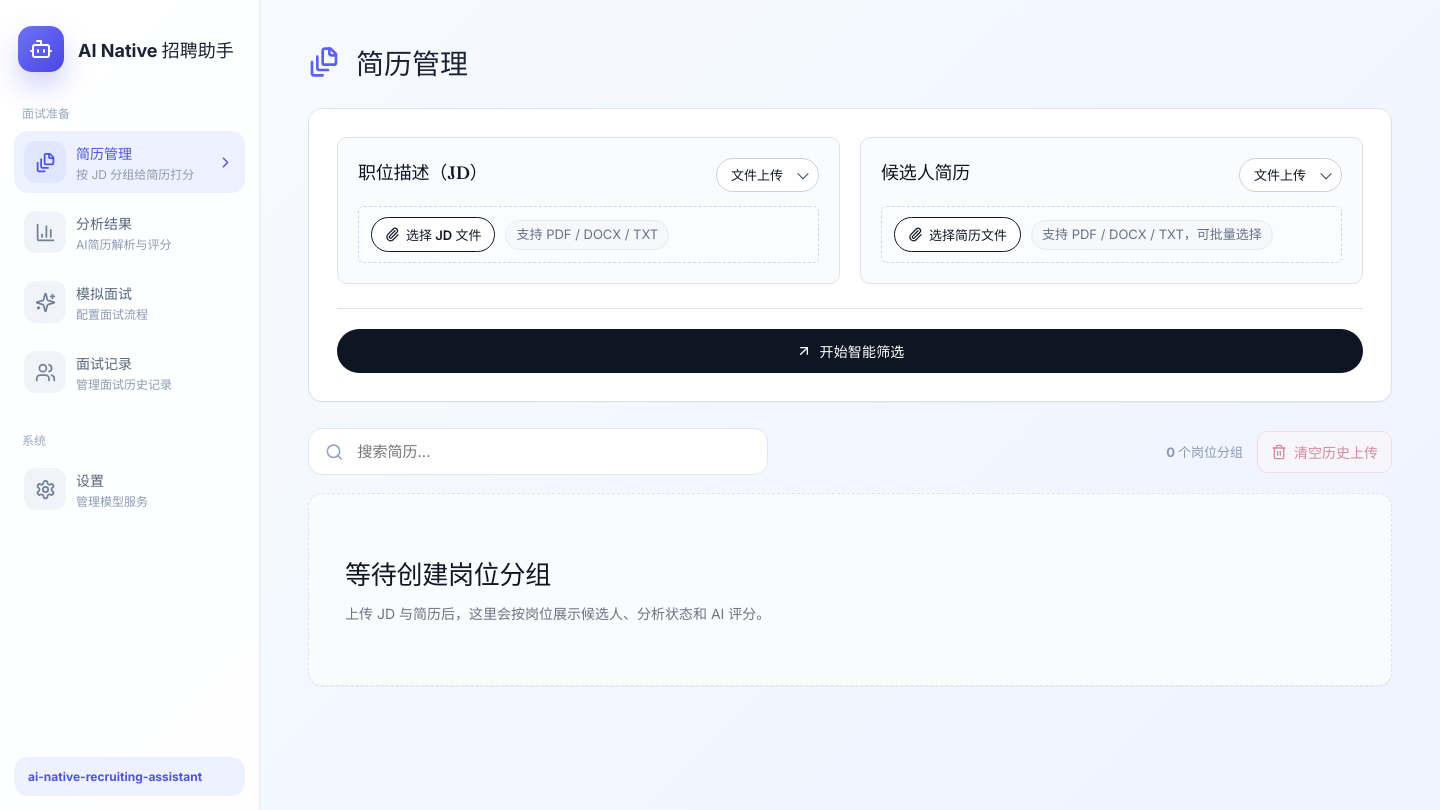
Test case: App › shows API errors in the workspace
Select "文本输入" in the dropdown labelled "职位描述（JD）" at (768, 175), box [716,158,819,192]
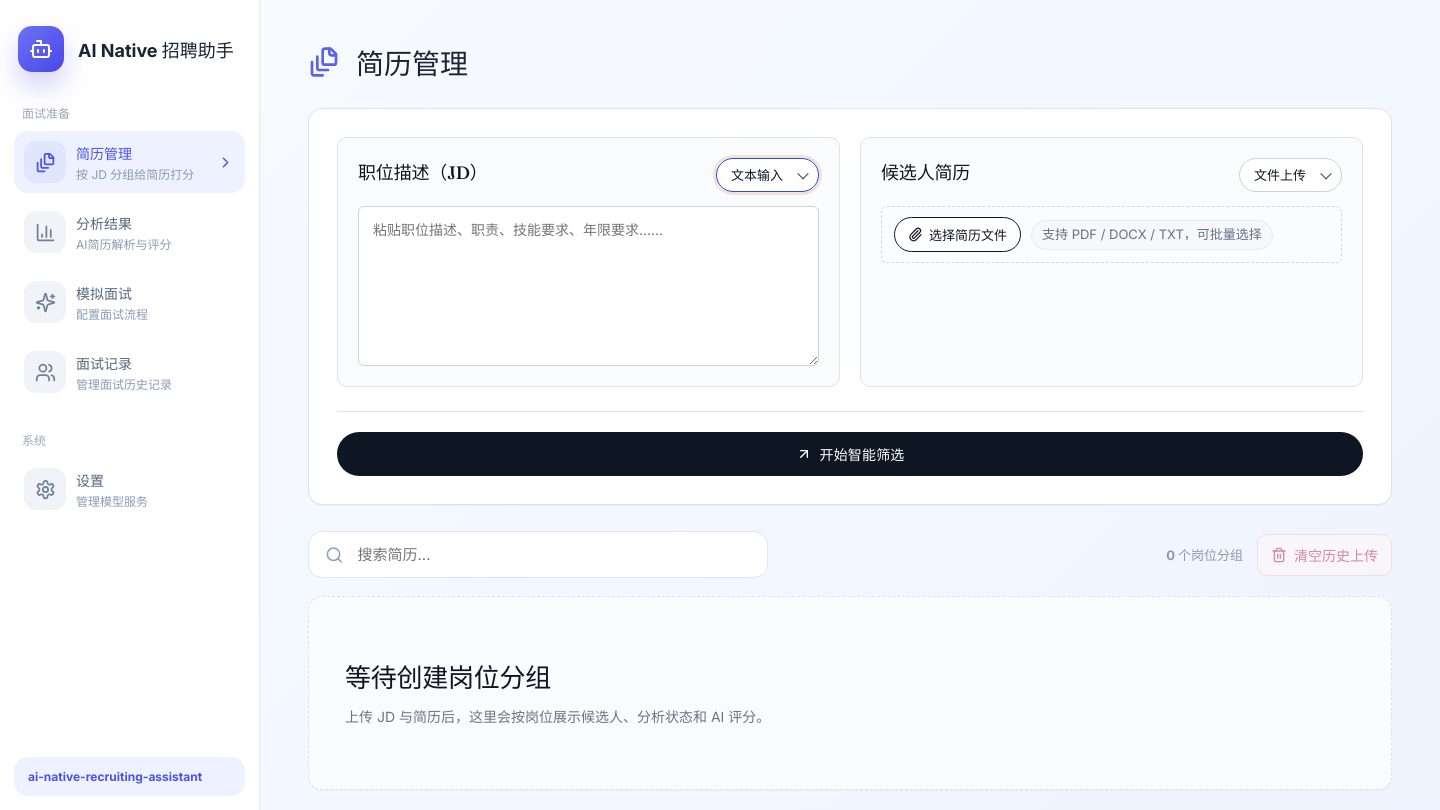
Type "Python 工程师" into the text box named "JD 文本兜底".
click(588, 286); type("Python 工程师")  # box [358,206,819,366]
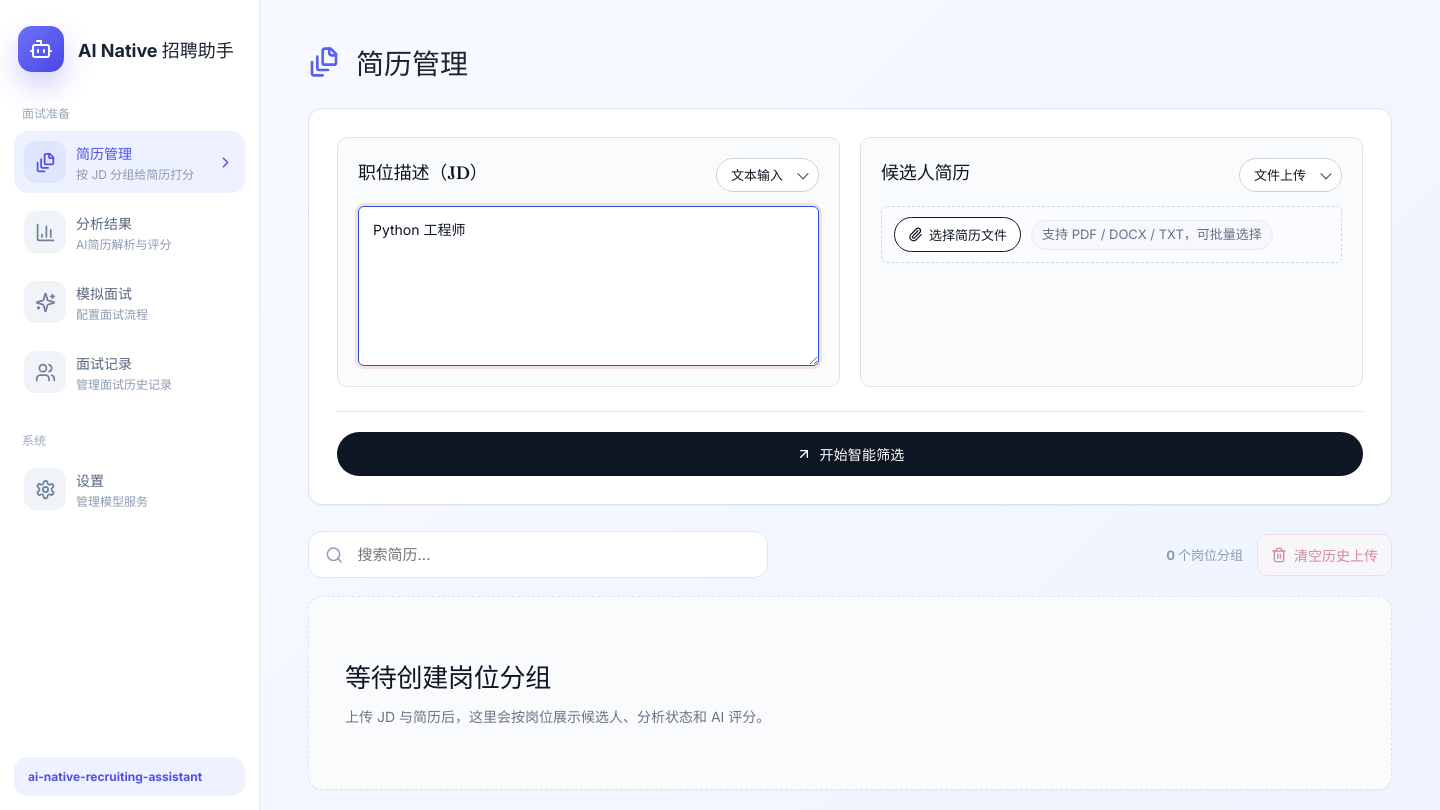
Click the button "开始智能筛选".
click(850, 454)  # box [337,432,1363,476]
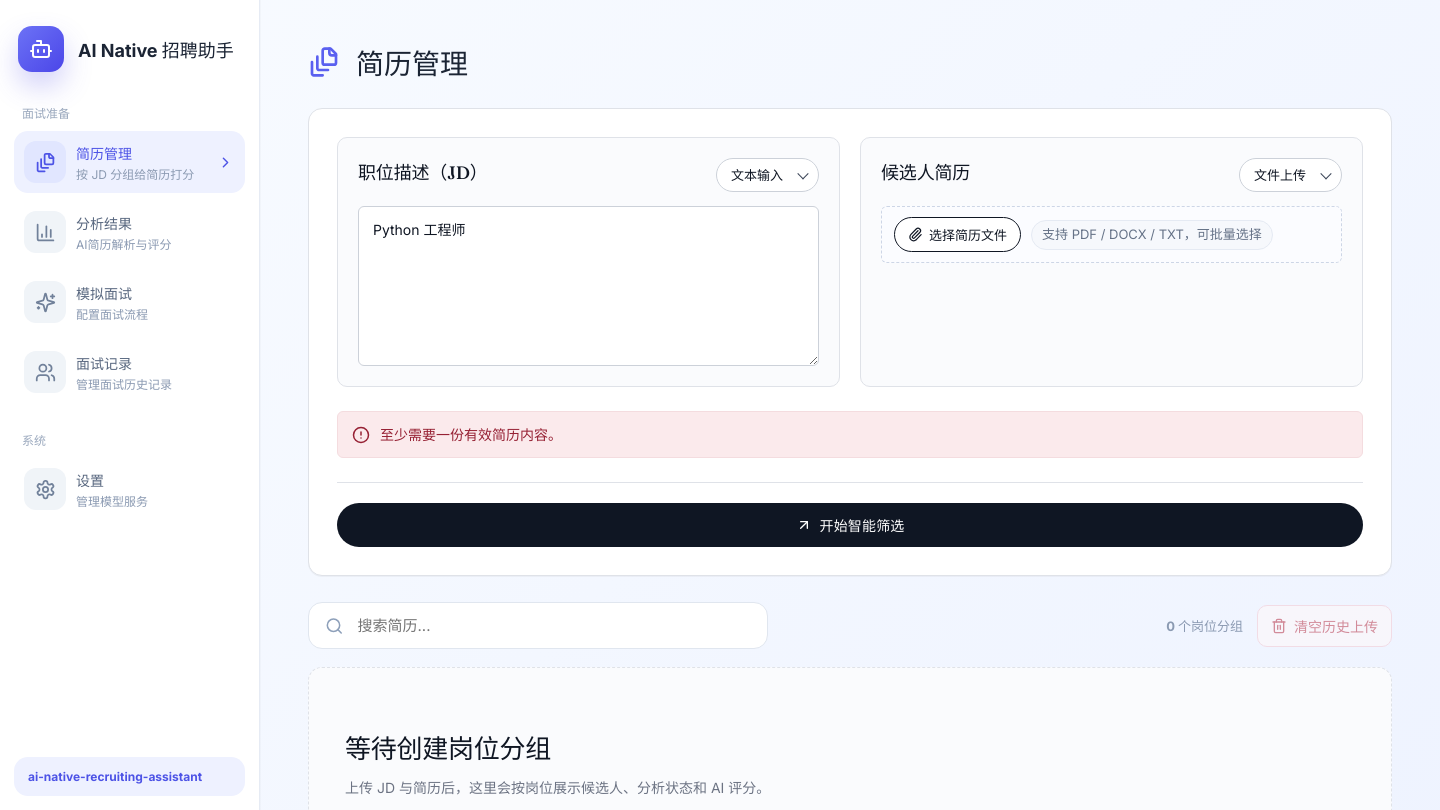
Expected: the text "至少需要一份有效简历内容。" is shown, [380,424,562,445]
